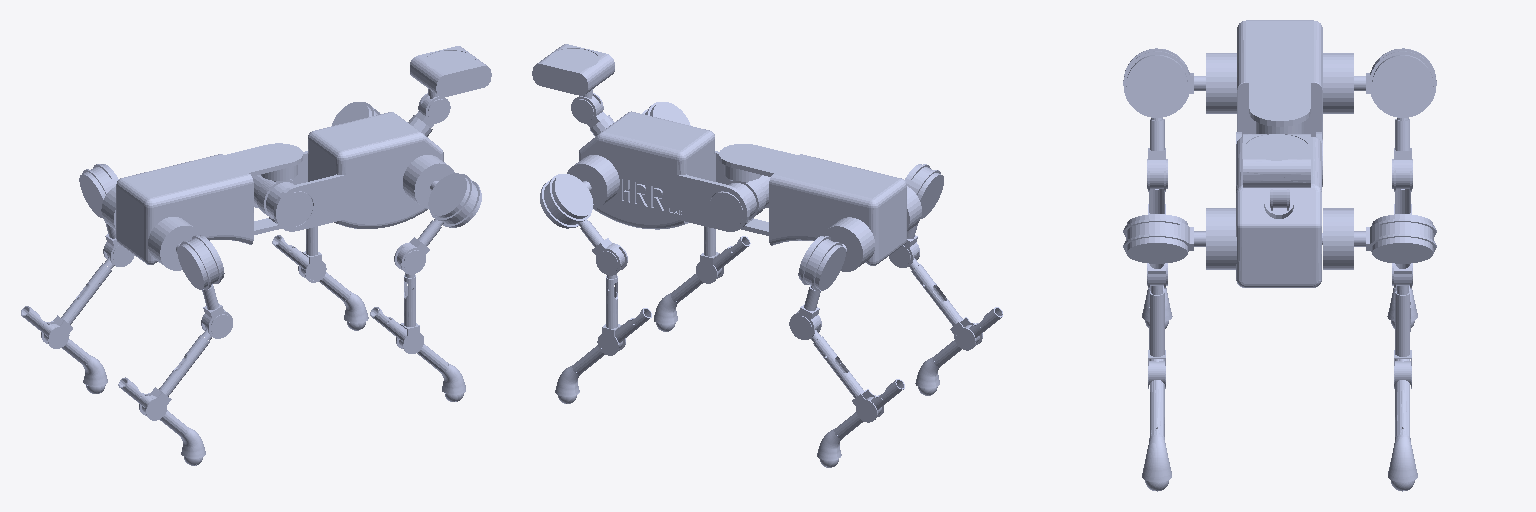
--- Facts derived from the render (not from the file) ---
The picture shows the robot from 3 angles, left to right: view 1: azimuth 30°, elevation 25°; view 2: azimuth 150°, elevation 25°; view 3: azimuth 270°, elevation 25°; orthographic projection.
Model ASSEM_2_2 with 24 links and 23 joints (21 continuous, 2 fixed), rooted at REAR_BODY, posed every joint at zero.
Visible links, largest first — view 1: FRONT_BODY, REAR_BODY, HEAD, WAIST_YAW, FR_SHOULDER, RR_SHOULDER, FR_HIP, RR_HIP, FL_CALF, FR_CALF, RR_THIGH, RL_CALF (+7 smaller); view 2: FRONT_BODY, REAR_BODY, HEAD, WAIST_YAW, FL_SHOULDER, RL_SHOULDER, FL_HIP, RL_HIP, FL_CALF, FR_CALF, RL_THIGH, RL_CALF (+7 smaller); view 3: FRONT_BODY, REAR_BODY, HEAD, RL_SHOULDER, RR_SHOULDER, RL_HIP, RR_HIP, FL_HIP, FR_HIP, FL_SHOULDER, FR_SHOULDER, FR_CALF (+6 smaller).
Link boxes in pixels (x1,y1,x2,y2): FRONT_BODY: (252, 93, 450, 231); REAR_BODY: (116, 143, 302, 264); HEAD: (410, 46, 491, 121); WAIST_YAW: (253, 146, 312, 226); FR_SHOULDER: (394, 173, 481, 274); RR_SHOULDER: (177, 235, 232, 338); FR_HIP: (403, 155, 480, 227); RR_HIP: (148, 217, 221, 289); FL_CALF: (272, 235, 368, 323); FR_CALF: (370, 307, 465, 394); RR_THIGH: (139, 314, 231, 420); RL_CALF: (21, 306, 107, 386); FRONT_BODY: (571, 93, 768, 231); REAR_BODY: (719, 144, 906, 265); HEAD: (532, 44, 614, 121); WAIST_YAW: (710, 146, 770, 227); FL_SHOULDER: (540, 174, 627, 275); RL_SHOULDER: (789, 236, 845, 339); FL_HIP: (541, 155, 619, 227); RL_HIP: (801, 217, 874, 290); FL_CALF: (555, 308, 651, 396); FR_CALF: (654, 236, 750, 324); RL_THIGH: (791, 316, 883, 422); RL_CALF: (817, 379, 904, 460); FRONT_BODY: (1236, 132, 1321, 287); REAR_BODY: (1237, 20, 1322, 138); HEAD: (1243, 134, 1310, 207); RL_SHOULDER: (1372, 55, 1433, 191); RR_SHOULDER: (1126, 55, 1187, 191); RL_HIP: (1323, 48, 1436, 117); RR_HIP: (1123, 48, 1236, 117); FL_HIP: (1322, 208, 1436, 269); FR_HIP: (1123, 208, 1236, 269); FL_SHOULDER: (1372, 214, 1433, 288); FR_SHOULDER: (1126, 214, 1187, 288); FR_CALF: (1142, 323, 1171, 481).
Size in the robot's own frame: 0.9588 by 0.51 by 0.6653 metres.
Meshes: 24 distinct files referenced, 24 mesh visuals loaded (24 binary STL).

robot.urdf — ASSEM_2_2:
<?xml version="1.0" encoding="utf-8"?>
<!-- This URDF was automatically created by SolidWorks to URDF Exporter! Originally created by Stephen Brawner ([email redacted]) 
     Commit Version: 1.6.0-4-g7f85cfe  Build Version: 1.6.7995.38578
     For more information, please see http://wiki.ros.org/sw_urdf_exporter -->
<robot
  name="ASSEM_2_2">
  <link
    name="REAR_BODY">
    <inertial>
      <origin
        xyz="0.080916 -1.8203E-05 0.027239"
        rpy="0 0 0" />
      <mass
        value="4.8069" />
      <inertia
        ixx="0.015462"
        ixy="-7.0621E-06"
        ixz="-0.00021339"
        iyy="0.037803"
        iyz="-2.4136E-06"
        izz="0.03743" />
    </inertial>
    <visual>
      <origin
        xyz="0 0 0"
        rpy="0 0 0" />
      <geometry>
        <mesh
          filename="package://ASSEM_2_2/meshes/REAR_BODY.STL" />
      </geometry>
      <material
        name="">
        <color
          rgba="0.79216 0.81961 0.93333 1" />
      </material>
    </visual>
    <collision>
      <origin
        xyz="0 0 0"
        rpy="0 0 0" />
      <geometry>
        <mesh
          filename="package://ASSEM_2_2/meshes/REAR_BODY.STL" />
      </geometry>
    </collision>
  </link>
  <link
    name="WAIST_YAW">
    <inertial>
      <origin
        xyz="6.3838E-16 1.6653E-16 0.01696"
        rpy="0 0 0" />
      <mass
        value="0.96933" />
      <inertia
        ixx="0.002572"
        ixy="-1.5585E-18"
        ixz="-2.5994E-17"
        iyy="0.0017614"
        iyz="-6.2884E-18"
        izz="0.0016095" />
    </inertial>
    <visual>
      <origin
        xyz="0 0 0"
        rpy="0 0 0" />
      <geometry>
        <mesh
          filename="package://ASSEM_2_2/meshes/WAIST_YAW.STL" />
      </geometry>
      <material
        name="">
        <color
          rgba="0.79216 0.81961 0.93333 1" />
      </material>
    </visual>
    <collision>
      <origin
        xyz="0 0 0"
        rpy="0 0 0" />
      <geometry>
        <mesh
          filename="package://ASSEM_2_2/meshes/WAIST_YAW.STL" />
      </geometry>
    </collision>
  </link>
  <joint
    name="WAIST_YAW_JOINT"
    type="continuous">
    <origin
      xyz="0.3 0 -0.0035"
      rpy="0 0 0" />
    <parent
      link="REAR_BODY" />
    <child
      link="WAIST_YAW" />
    <axis
      xyz="0 0 1" />
  </joint>
  <link
    name="FRONT_BODY">
    <inertial>
      <origin
        xyz="0.21928 -0.0014871 0.0067256"
        rpy="0 0 0" />
      <mass
        value="6.419" />
      <inertia
        ixx="0.02823"
        ixy="-3.2963E-05"
        ixz="0.00056733"
        iyy="0.053377"
        iyz="-1.8366E-05"
        izz="0.046454" />
    </inertial>
    <visual>
      <origin
        xyz="0 0 0"
        rpy="0 0 0" />
      <geometry>
        <mesh
          filename="package://ASSEM_2_2/meshes/FRONT_BODY.STL" />
      </geometry>
      <material
        name="">
        <color
          rgba="0.79216 0.81961 0.93333 1" />
      </material>
    </visual>
    <collision>
      <origin
        xyz="0 0 0"
        rpy="0 0 0" />
      <geometry>
        <mesh
          filename="package://ASSEM_2_2/meshes/FRONT_BODY.STL" />
      </geometry>
    </collision>
  </link>
  <joint
    name="FRONT_BODY_JOINT"
    type="continuous">
    <origin
      xyz="0 0 0"
      rpy="0 0 0" />
    <parent
      link="WAIST_YAW" />
    <child
      link="FRONT_BODY" />
    <axis
      xyz="0 1 0" />
  </joint>
  <link
    name="FL_HIP">
    <inertial>
      <origin
        xyz="1.8041E-16 0.0063388 0"
        rpy="0 0 0" />
      <mass
        value="0.43122" />
      <inertia
        ixx="0.00054506"
        ixy="-4.7315E-18"
        ixz="-9.9533E-06"
        iyy="0.0005176"
        iyz="2.7105E-20"
        izz="0.00054506" />
    </inertial>
    <visual>
      <origin
        xyz="0 0 0"
        rpy="0 0 0" />
      <geometry>
        <mesh
          filename="package://ASSEM_2_2/meshes/FL_HIP.STL" />
      </geometry>
      <material
        name="">
        <color
          rgba="0.79216 0.81961 0.93333 1" />
      </material>
    </visual>
    <collision>
      <origin
        xyz="0 0 0"
        rpy="0 0 0" />
      <geometry>
        <mesh
          filename="package://ASSEM_2_2/meshes/FL_HIP.STL" />
      </geometry>
    </collision>
  </link>
  <joint
    name="FL_HP_JOINT"
    type="continuous">
    <origin
      xyz="0.300000000000001 0.0943129086066267 0.00349999999999956"
      rpy="0 0 0" />
    <parent
      link="FRONT_BODY" />
    <child
      link="FL_HIP" />
    <axis
      xyz="0 -1 0" />
  </joint>
  <link
    name="FL_SHOULDER">
    <inertial>
      <origin
        xyz="-0.0074344 4.8131E-10 -0.0074344"
        rpy="0 0 0" />
      <mass
        value="0.43388" />
      <inertia
        ixx="0.00066072"
        ixy="8.8551E-12"
        ixz="-0.00032454"
        iyy="0.00082456"
        iyz="-1.1716E-11"
        izz="0.00066072" />
    </inertial>
    <visual>
      <origin
        xyz="0 0 0"
        rpy="0 0 0" />
      <geometry>
        <mesh
          filename="package://ASSEM_2_2/meshes/FL_SHOULDER.STL" />
      </geometry>
      <material
        name="">
        <color
          rgba="0.79216 0.81961 0.93333 1" />
      </material>
    </visual>
    <collision>
      <origin
        xyz="0 0 0"
        rpy="0 0 0" />
      <geometry>
        <mesh
          filename="package://ASSEM_2_2/meshes/FL_SHOULDER.STL" />
      </geometry>
    </collision>
  </link>
  <joint
    name="FL_SR_JOINT"
    type="continuous">
    <origin
      xyz="0 0.105687091393375 0"
      rpy="0 0 0" />
    <parent
      link="FL_HIP" />
    <child
      link="FL_SHOULDER" />
    <axis
      xyz="-0.707106781186547 0 0.707106781186547" />
  </joint>
  <link
    name="FL_THIGH">
    <inertial>
      <origin
        xyz="0.00014733 1.7543E-08 -0.036163"
        rpy="0 0 0" />
      <mass
        value="0.096684" />
      <inertia
        ixx="0.00034622"
        ixy="5.8036E-12"
        ixz="4.2961E-07"
        iyy="0.00034967"
        iyz="-7.4494E-11"
        izz="2.0661E-05" />
    </inertial>
    <visual>
      <origin
        xyz="0 0 0"
        rpy="0 0 0" />
      <geometry>
        <mesh
          filename="package://ASSEM_2_2/meshes/FL_THIGH.STL" />
      </geometry>
      <material
        name="">
        <color
          rgba="0.79216 0.81961 0.93333 1" />
      </material>
    </visual>
    <collision>
      <origin
        xyz="0 0 0"
        rpy="0 0 0" />
      <geometry>
        <mesh
          filename="package://ASSEM_2_2/meshes/FL_THIGH.STL" />
      </geometry>
    </collision>
  </link>
  <joint
    name="FL_TP_JOINT"
    type="continuous">
    <origin
      xyz="-0.106066017177982 0 -0.106066017177982"
      rpy="0 0 0" />
    <parent
      link="FL_SHOULDER" />
    <child
      link="FL_THIGH" />
    <axis
      xyz="0 1 0" />
  </joint>
  <link
    name="FL_CALF">
    <inertial>
      <origin
        xyz="0.0005734 -4.2817E-07 -0.0010627"
        rpy="0 0 0" />
      <mass
        value="0.057489" />
      <inertia
        ixx="8.6256E-05"
        ixy="3.8875E-10"
        ixz="7.8041E-05"
        iyy="0.00016704"
        iyz="1.4155E-10"
        izz="8.9999E-05" />
    </inertial>
    <visual>
      <origin
        xyz="0 0 0"
        rpy="0 0 0" />
      <geometry>
        <mesh
          filename="package://ASSEM_2_2/meshes/FL_CALF.STL" />
      </geometry>
      <material
        name="">
        <color
          rgba="0.79216 0.81961 0.93333 1" />
      </material>
    </visual>
    <collision>
      <origin
        xyz="0 0 0"
        rpy="0 0 0" />
      <geometry>
        <mesh
          filename="package://ASSEM_2_2/meshes/FL_CALF.STL" />
      </geometry>
    </collision>
  </link>
  <joint
    name="FL_CALF_JOINT"
    type="continuous">
    <origin
      xyz="0 0 -0.184500000000001"
      rpy="0 0 0" />
    <parent
      link="FL_THIGH" />
    <child
      link="FL_CALF" />
    <axis
      xyz="0 1 0" />
  </joint>
  <link
    name="FL_TIP">
    <inertial>
      <origin
        xyz="5.1101E-07 -3.3718E-08 -0.011362"
        rpy="0 0 0" />
      <mass
        value="0.019177" />
      <inertia
        ixx="2.4493E-06"
        ixy="-3.9009E-12"
        ixz="-1.2404E-11"
        iyy="2.4492E-06"
        iyz="3.5007E-12"
        izz="3.4845E-06" />
    </inertial>
    <visual>
      <origin
        xyz="0 0 0"
        rpy="0 0 0" />
      <geometry>
        <mesh
          filename="package://ASSEM_2_2/meshes/FL_TIP.STL" />
      </geometry>
      <material
        name="">
        <color
          rgba="0.79216 0.81961 0.93333 1" />
      </material>
    </visual>
    <collision>
      <origin
        xyz="0 0 0"
        rpy="0 0 0" />
      <geometry>
        <mesh
          filename="package://ASSEM_2_2/meshes/FL_TIP.STL" />
      </geometry>
    </collision>
  </link>
  <joint
    name="FL_TIP_JOINT"
    type="continuous">
    <origin
      xyz="0.104008293469151 0 -0.136008868888504"
      rpy="0 0 0" />
    <parent
      link="FL_CALF" />
    <child
      link="FL_TIP" />
    <axis
      xyz="0 0 1" />
  </joint>
  <link
    name="FR_HIP">
    <inertial>
      <origin
        xyz="1.6966E-13 -0.0049646 -1.3678E-13"
        rpy="0 0 0" />
      <mass
        value="0.43122" />
      <inertia
        ixx="0.00054506"
        ixy="5.0385E-15"
        ixz="-9.9533E-06"
        iyy="0.0005176"
        iyz="-4.0237E-15"
        izz="0.00054506" />
    </inertial>
    <visual>
      <origin
        xyz="0 0 0"
        rpy="0 0 0" />
      <geometry>
        <mesh
          filename="package://ASSEM_2_2/meshes/FR_HIP.STL" />
      </geometry>
      <material
        name="">
        <color
          rgba="0.79216 0.81961 0.93333 1" />
      </material>
    </visual>
    <collision>
      <origin
        xyz="0 0 0"
        rpy="0 0 0" />
      <geometry>
        <mesh
          filename="package://ASSEM_2_2/meshes/FR_HIP.STL" />
      </geometry>
    </collision>
  </link>
  <joint
    name="FR_HP_JOINT"
    type="continuous">
    <origin
      xyz="0.300000000000002 -0.0956870913933748 0.00349999999999989"
      rpy="0 0 0" />
    <parent
      link="FRONT_BODY" />
    <child
      link="FR_HIP" />
    <axis
      xyz="0 1 0" />
  </joint>
  <link
    name="FR_SHOULDER">
    <inertial>
      <origin
        xyz="-0.0074344 4.8111E-10 -0.0074344"
        rpy="0 0 0" />
      <mass
        value="0.43388" />
      <inertia
        ixx="0.00066072"
        ixy="8.8488E-12"
        ixz="-0.00032454"
        iyy="0.00082456"
        iyz="-1.1724E-11"
        izz="0.00066072" />
    </inertial>
    <visual>
      <origin
        xyz="0 0 0"
        rpy="0 0 0" />
      <geometry>
        <mesh
          filename="package://ASSEM_2_2/meshes/FR_SHOULDER.STL" />
      </geometry>
      <material
        name="">
        <color
          rgba="0.79216 0.81961 0.93333 1" />
      </material>
    </visual>
    <collision>
      <origin
        xyz="0 0 0"
        rpy="0 0 0" />
      <geometry>
        <mesh
          filename="package://ASSEM_2_2/meshes/FR_SHOULDER.STL" />
      </geometry>
    </collision>
  </link>
  <joint
    name="FR_SR_JOINT"
    type="continuous">
    <origin
      xyz="0 -0.104312908603774 0"
      rpy="0 0 0" />
    <parent
      link="FR_HIP" />
    <child
      link="FR_SHOULDER" />
    <axis
      xyz="-0.707106781186547 0 0.707106781186548" />
  </joint>
  <link
    name="FR_THIGH">
    <inertial>
      <origin
        xyz="0.00014726 -3.4677E-08 -0.036163"
        rpy="0 0 0" />
      <mass
        value="0.096684" />
      <inertia
        ixx="0.00034622"
        ixy="-2.5324E-12"
        ixz="4.2968E-07"
        iyy="0.00034967"
        iyz="3.9312E-11"
        izz="2.0661E-05" />
    </inertial>
    <visual>
      <origin
        xyz="0 0 0"
        rpy="0 0 0" />
      <geometry>
        <mesh
          filename="package://ASSEM_2_2/meshes/FR_THIGH.STL" />
      </geometry>
      <material
        name="">
        <color
          rgba="0.79216 0.81961 0.93333 1" />
      </material>
    </visual>
    <collision>
      <origin
        xyz="0 0 0"
        rpy="0 0 0" />
      <geometry>
        <mesh
          filename="package://ASSEM_2_2/meshes/FR_THIGH.STL" />
      </geometry>
    </collision>
  </link>
  <joint
    name="FR_TP_JOINT"
    type="fixed">
    <origin
      xyz="-0.10607 0 -0.10607"
      rpy="0 0 0" />
    <parent
      link="FR_SHOULDER" />
    <child
      link="FR_THIGH" />
    <axis
      xyz="0 0 0" />
  </joint>
  <link
    name="FR_CALF">
    <inertial>
      <origin
        xyz="0.0005734 -3.5632E-07 -0.0010627"
        rpy="0 0 0" />
      <mass
        value="0.057489" />
      <inertia
        ixx="8.6256E-05"
        ixy="3.9112E-10"
        ixz="7.8041E-05"
        iyy="0.00016704"
        iyz="1.3716E-10"
        izz="8.9999E-05" />
    </inertial>
    <visual>
      <origin
        xyz="0 0 0"
        rpy="0 0 0" />
      <geometry>
        <mesh
          filename="package://ASSEM_2_2/meshes/FR_CALF.STL" />
      </geometry>
      <material
        name="">
        <color
          rgba="0.79216 0.81961 0.93333 1" />
      </material>
    </visual>
    <collision>
      <origin
        xyz="0 0 0"
        rpy="0 0 0" />
      <geometry>
        <mesh
          filename="package://ASSEM_2_2/meshes/FR_CALF.STL" />
      </geometry>
    </collision>
  </link>
  <joint
    name="FR_CP_JOINT"
    type="continuous">
    <origin
      xyz="0 0 -0.1845"
      rpy="0 0 0" />
    <parent
      link="FR_THIGH" />
    <child
      link="FR_CALF" />
    <axis
      xyz="0 -1 0" />
  </joint>
  <link
    name="FR_TIP">
    <inertial>
      <origin
        xyz="6.1742E-07 -1.9313E-07 -0.011362"
        rpy="0 0 0" />
      <mass
        value="0.019177" />
      <inertia
        ixx="2.4494E-06"
        ixy="9.5902E-12"
        ixz="8.3851E-12"
        iyy="2.4491E-06"
        iyz="-1.1433E-11"
        izz="3.4845E-06" />
    </inertial>
    <visual>
      <origin
        xyz="0 0 0"
        rpy="0 0 0" />
      <geometry>
        <mesh
          filename="package://ASSEM_2_2/meshes/FR_TIP.STL" />
      </geometry>
      <material
        name="">
        <color
          rgba="0.79216 0.81961 0.93333 1" />
      </material>
    </visual>
    <collision>
      <origin
        xyz="0 0 0"
        rpy="0 0 0" />
      <geometry>
        <mesh
          filename="package://ASSEM_2_2/meshes/FR_TIP.STL" />
      </geometry>
    </collision>
  </link>
  <joint
    name="FR_TIP_JOINT"
    type="continuous">
    <origin
      xyz="0.104008293469151 0 -0.136008868888504"
      rpy="0 0 0" />
    <parent
      link="FR_CALF" />
    <child
      link="FR_TIP" />
    <axis
      xyz="0 0 1" />
  </joint>
  <link
    name="HEAD">
    <inertial>
      <origin
        xyz="0.031476 -0.0045112 0.067344"
        rpy="0 0 0" />
      <mass
        value="0.74019" />
      <inertia
        ixx="0.0011528"
        ixy="1.1391E-05"
        ixz="-0.00015968"
        iyy="0.0014149"
        iyz="2.2888E-05"
        izz="0.0016326" />
    </inertial>
    <visual>
      <origin
        xyz="0 0 0"
        rpy="0 0 0" />
      <geometry>
        <mesh
          filename="package://ASSEM_2_2/meshes/HEAD.STL" />
      </geometry>
      <material
        name="">
        <color
          rgba="0.79216 0.81961 0.93333 1" />
      </material>
    </visual>
    <collision>
      <origin
        xyz="0 0 0"
        rpy="0 0 0" />
      <geometry>
        <mesh
          filename="package://ASSEM_2_2/meshes/HEAD.STL" />
      </geometry>
    </collision>
  </link>
  <joint
    name="HEAD_JOINT"
    type="continuous">
    <origin
      xyz="0.36657 0 0.11678"
      rpy="0 -3.6595E-05 0" />
    <parent
      link="FRONT_BODY" />
    <child
      link="HEAD" />
    <axis
      xyz="0 1 0" />
  </joint>
  <link
    name="RL_HIP">
    <inertial>
      <origin
        xyz="1.6653E-16 0.0056517 -1.1102E-16"
        rpy="0 0 0" />
      <mass
        value="0.43122" />
      <inertia
        ixx="0.00055368"
        ixy="-1.584E-18"
        ixz="4.9766E-06"
        iyy="0.0005176"
        iyz="-1.2468E-18"
        izz="0.00053644" />
    </inertial>
    <visual>
      <origin
        xyz="0 0 0"
        rpy="0 0 0" />
      <geometry>
        <mesh
          filename="package://ASSEM_2_2/meshes/RL_HIP.STL" />
      </geometry>
      <material
        name="">
        <color
          rgba="0.79216 0.81961 0.93333 1" />
      </material>
    </visual>
    <collision>
      <origin
        xyz="0 0 0"
        rpy="0 0 0" />
      <geometry>
        <mesh
          filename="package://ASSEM_2_2/meshes/RL_HIP.STL" />
      </geometry>
    </collision>
  </link>
  <joint
    name="RL_HP_JOINT"
    type="continuous">
    <origin
      xyz="0 0.095 0"
      rpy="0 0 0" />
    <parent
      link="REAR_BODY" />
    <child
      link="RL_HIP" />
    <axis
      xyz="0 1 0" />
  </joint>
  <link
    name="RL_SHOULDER">
    <inertial>
      <origin
        xyz="0.0027212 -1.0374E-09 -0.010156"
        rpy="0 0 0" />
      <mass
        value="0.43388" />
      <inertia
        ixx="0.00094177"
        ixy="1.7333E-11"
        ixz="0.00016227"
        iyy="0.00082456"
        iyz="-1.1707E-11"
        izz="0.00037966" />
    </inertial>
    <visual>
      <origin
        xyz="0 0 0"
        rpy="0 0 0" />
      <geometry>
        <mesh
          filename="package://ASSEM_2_2/meshes/RL_SHOULDER.STL" />
      </geometry>
      <material
        name="">
        <color
          rgba="0.79216 0.81961 0.93333 1" />
      </material>
    </visual>
    <collision>
      <origin
        xyz="0 0 0"
        rpy="0 0 0" />
      <geometry>
        <mesh
          filename="package://ASSEM_2_2/meshes/RL_SHOULDER.STL" />
      </geometry>
    </collision>
  </link>
  <joint
    name="RL_SR_JOINT"
    type="continuous">
    <origin
      xyz="0 0.105 0"
      rpy="0 0 0" />
    <parent
      link="RL_HIP" />
    <child
      link="RL_SHOULDER" />
    <axis
      xyz="-0.96593 0 -0.25882" />
  </joint>
  <link
    name="RL_THIGH">
    <inertial>
      <origin
        xyz="-0.031509 3.6159E-07 -0.032304"
        rpy="0 0 0" />
      <mass
        value="0.10137" />
      <inertia
        ixx="0.00027024"
        ixy="2.4891E-09"
        ixz="-0.00024367"
        iyy="0.00051215"
        iyz="2.2317E-09"
        izz="0.00025972" />
    </inertial>
    <visual>
      <origin
        xyz="0 0 0"
        rpy="0 0 0" />
      <geometry>
        <mesh
          filename="package://ASSEM_2_2/meshes/RL_THIGH.STL" />
      </geometry>
      <material
        name="">
        <color
          rgba="0.79216 0.81961 0.93333 1" />
      </material>
    </visual>
    <collision>
      <origin
        xyz="0 0 0"
        rpy="0 0 0" />
      <geometry>
        <mesh
          filename="package://ASSEM_2_2/meshes/RL_THIGH.STL" />
      </geometry>
    </collision>
  </link>
  <joint
    name="RL_TP_JOINT"
    type="continuous">
    <origin
      xyz="0.038823 0 -0.14489"
      rpy="0 0 0" />
    <parent
      link="RL_SHOULDER" />
    <child
      link="RL_THIGH" />
    <axis
      xyz="0 1 0" />
  </joint>
  <link
    name="RL_CALF">
    <inertial>
      <origin
        xyz="0.0011737 -6.4834E-07 -0.0017107"
        rpy="0 0 0" />
      <mass
        value="0.052193" />
      <inertia
        ixx="6.2371E-05"
        ixy="-1.2413E-11"
        ixz="5.3995E-05"
        iyy="0.00011827"
        iyz="7.8279E-10"
        izz="6.4434E-05" />
    </inertial>
    <visual>
      <origin
        xyz="0 0 0"
        rpy="0 0 0" />
      <geometry>
        <mesh
          filename="package://ASSEM_2_2/meshes/RL_CALF.STL" />
      </geometry>
      <material
        name="">
        <color
          rgba="0.79216 0.81961 0.93333 1" />
      </material>
    </visual>
    <collision>
      <origin
        xyz="0 0 0"
        rpy="0 0 0" />
      <geometry>
        <mesh
          filename="package://ASSEM_2_2/meshes/RL_CALF.STL" />
      </geometry>
    </collision>
  </link>
  <joint
    name="RL_CP_JOINT"
    type="continuous">
    <origin
      xyz="-0.1515 0 -0.15396"
      rpy="0 0 0" />
    <parent
      link="RL_THIGH" />
    <child
      link="RL_CALF" />
    <axis
      xyz="0 1 0" />
  </joint>
  <link
    name="RL_TIP">
    <inertial>
      <origin
        xyz="5.1263E-07 -2.7994E-08 -0.011362"
        rpy="0 0 0" />
      <mass
        value="0.019177" />
      <inertia
        ixx="2.4493E-06"
        ixy="-6.1502E-13"
        ixz="-1.2216E-11"
        iyy="2.4492E-06"
        iyz="4.5089E-12"
        izz="3.4845E-06" />
    </inertial>
    <visual>
      <origin
        xyz="0 0 0"
        rpy="0 0 0" />
      <geometry>
        <mesh
          filename="package://ASSEM_2_2/meshes/RL_TIP.STL" />
      </geometry>
      <material
        name="">
        <color
          rgba="0.79216 0.81961 0.93333 1" />
      </material>
    </visual>
    <collision>
      <origin
        xyz="0 0 0"
        rpy="0 0 0" />
      <geometry>
        <mesh
          filename="package://ASSEM_2_2/meshes/RL_TIP.STL" />
      </geometry>
    </collision>
  </link>
  <joint
    name="RL_TIP_JOINT"
    type="continuous">
    <origin
      xyz="0.095722 0 -0.12772"
      rpy="0 0 0" />
    <parent
      link="RL_CALF" />
    <child
      link="RL_TIP" />
    <axis
      xyz="0 0 1" />
  </joint>
  <link
    name="RR_HIP">
    <inertial>
      <origin
        xyz="1.6653E-16 -0.0056517 0"
        rpy="0 0 0" />
      <mass
        value="0.43122" />
      <inertia
        ixx="0.00055368"
        ixy="3.0137E-18"
        ixz="4.9766E-06"
        iyy="0.0005176"
        iyz="-9.0802E-19"
        izz="0.00053644" />
    </inertial>
    <visual>
      <origin
        xyz="0 0 0"
        rpy="0 0 0" />
      <geometry>
        <mesh
          filename="package://ASSEM_2_2/meshes/RR_HIP.STL" />
      </geometry>
      <material
        name="">
        <color
          rgba="0.79216 0.81961 0.93333 1" />
      </material>
    </visual>
    <collision>
      <origin
        xyz="0 0 0"
        rpy="0 0 0" />
      <geometry>
        <mesh
          filename="package://ASSEM_2_2/meshes/RR_HIP.STL" />
      </geometry>
    </collision>
  </link>
  <joint
    name="RR_HP_JOINT"
    type="fixed">
    <origin
      xyz="0 -0.095 0"
      rpy="0 0 0" />
    <parent
      link="REAR_BODY" />
    <child
      link="RR_HIP" />
    <axis
      xyz="0 0 0" />
  </joint>
  <link
    name="RR_SHOULDER">
    <inertial>
      <origin
        xyz="0.0027212 -1.0374E-09 -0.010156"
        rpy="0 0 0" />
      <mass
        value="0.43388" />
      <inertia
        ixx="0.00094177"
        ixy="1.7333E-11"
        ixz="0.00016227"
        iyy="0.00082456"
        iyz="-1.1707E-11"
        izz="0.00037966" />
    </inertial>
    <visual>
      <origin
        xyz="0 0 0"
        rpy="0 0 0" />
      <geometry>
        <mesh
          filename="package://ASSEM_2_2/meshes/RR_SHOULDER.STL" />
      </geometry>
      <material
        name="">
        <color
          rgba="0.79216 0.81961 0.93333 1" />
      </material>
    </visual>
    <collision>
      <origin
        xyz="0 0 0"
        rpy="0 0 0" />
      <geometry>
        <mesh
          filename="package://ASSEM_2_2/meshes/RR_SHOULDER.STL" />
      </geometry>
    </collision>
  </link>
  <joint
    name="RR_SR_JOINT"
    type="continuous">
    <origin
      xyz="0 -0.105 0"
      rpy="0 0 0" />
    <parent
      link="RR_HIP" />
    <child
      link="RR_SHOULDER" />
    <axis
      xyz="-0.96593 0 -0.25882" />
  </joint>
  <link
    name="RR_THIGH">
    <inertial>
      <origin
        xyz="-0.031511 -3.4302E-05 -0.032302"
        rpy="0 0 0" />
      <mass
        value="0.10137" />
      <inertia
        ixx="0.00027022"
        ixy="-1.7359E-07"
        ixz="-0.00024366"
        iyy="0.00051216"
        iyz="-1.4981E-07"
        izz="0.00025974" />
    </inertial>
    <visual>
      <origin
        xyz="0 0 0"
        rpy="0 0 0" />
      <geometry>
        <mesh
          filename="package://ASSEM_2_2/meshes/RR_THIGH.STL" />
      </geometry>
      <material
        name="">
        <color
          rgba="0.79216 0.81961 0.93333 1" />
      </material>
    </visual>
    <collision>
      <origin
        xyz="0 0 0"
        rpy="0 0 0" />
      <geometry>
        <mesh
          filename="package://ASSEM_2_2/meshes/RR_THIGH.STL" />
      </geometry>
    </collision>
  </link>
  <joint
    name="RR_TP_JOINT"
    type="continuous">
    <origin
      xyz="0.038823 0 -0.14489"
      rpy="0 0 0" />
    <parent
      link="RR_SHOULDER" />
    <child
      link="RR_THIGH" />
    <axis
      xyz="0 -1 0" />
  </joint>
  <link
    name="RR_CALF">
    <inertial>
      <origin
        xyz="0.0011737 -6.0073E-07 -0.0017107"
        rpy="0 0 0" />
      <mass
        value="0.052193" />
      <inertia
        ixx="6.2371E-05"
        ixy="1.4811E-09"
        ixz="5.3995E-05"
        iyy="0.00011827"
        iyz="-6.8836E-10"
        izz="6.4434E-05" />
    </inertial>
    <visual>
      <origin
        xyz="0 0 0"
        rpy="0 0 0" />
      <geometry>
        <mesh
          filename="package://ASSEM_2_2/meshes/RR_CALF.STL" />
      </geometry>
      <material
        name="">
        <color
          rgba="0.79216 0.81961 0.93333 1" />
      </material>
    </visual>
    <collision>
      <origin
        xyz="0 0 0"
        rpy="0 0 0" />
      <geometry>
        <mesh
          filename="package://ASSEM_2_2/meshes/RR_CALF.STL" />
      </geometry>
    </collision>
  </link>
  <joint
    name="RR_CP_JOINT"
    type="continuous">
    <origin
      xyz="-0.1515 0 -0.15396"
      rpy="0 0 0" />
    <parent
      link="RR_THIGH" />
    <child
      link="RR_CALF" />
    <axis
      xyz="0 -1 0" />
  </joint>
  <link
    name="RR_TIP">
    <inertial>
      <origin
        xyz="6.5901E-07 -1.588E-07 -0.011362"
        rpy="0 0 0" />
      <mass
        value="0.019177" />
      <inertia
        ixx="2.4494E-06"
        ixy="3.2599E-11"
        ixz="1.2048E-11"
        iyy="2.4492E-06"
        iyz="-7.9939E-12"
        izz="3.4846E-06" />
    </inertial>
    <visual>
      <origin
        xyz="0 0 0"
        rpy="0 0 0" />
      <geometry>
        <mesh
          filename="package://ASSEM_2_2/meshes/RR_TIP.STL" />
      </geometry>
      <material
        name="">
        <color
          rgba="0.79216 0.81961 0.93333 1" />
      </material>
    </visual>
    <collision>
      <origin
        xyz="0 0 0"
        rpy="0 0 0" />
      <geometry>
        <mesh
          filename="package://ASSEM_2_2/meshes/RR_TIP.STL" />
      </geometry>
    </collision>
  </link>
  <joint
    name="RR_TIP_JOINT"
    type="continuous">
    <origin
      xyz="0.095722 0 -0.12772"
      rpy="0 0 0" />
    <parent
      link="RR_CALF" />
    <child
      link="RR_TIP" />
    <axis
      xyz="0 0 1" />
  </joint>
</robot>
